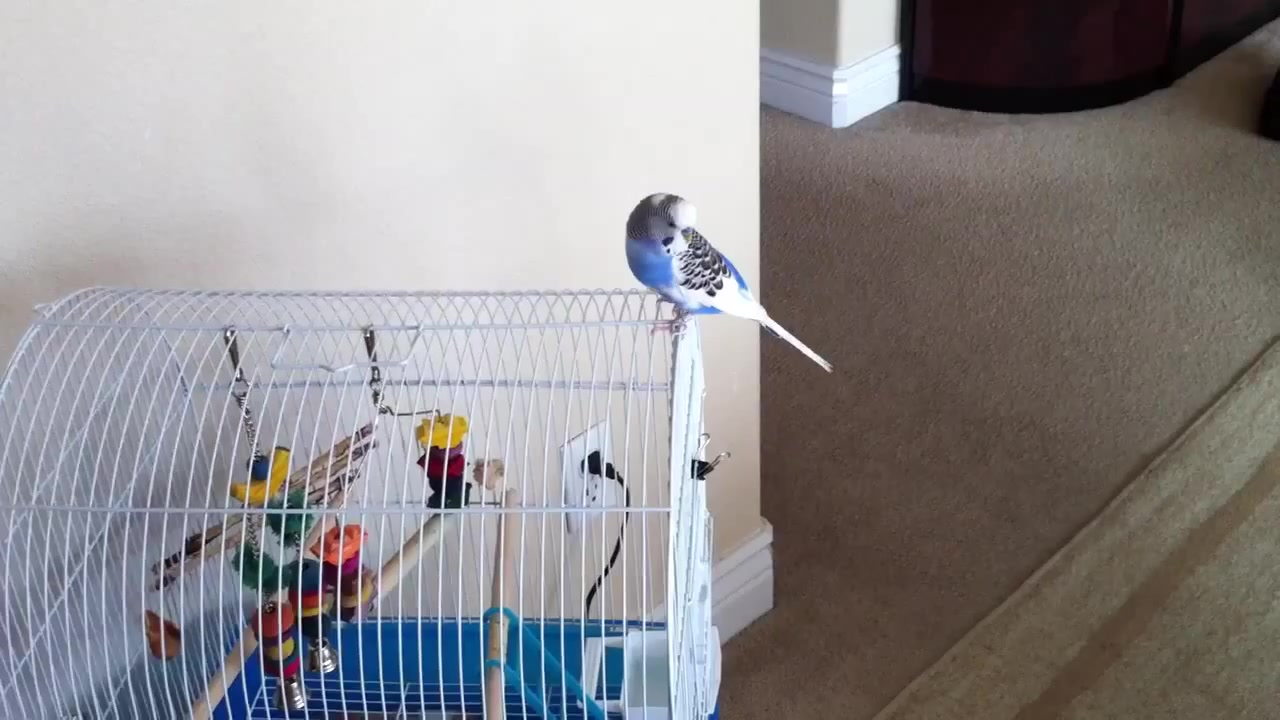bird: (625, 194, 835, 374)
